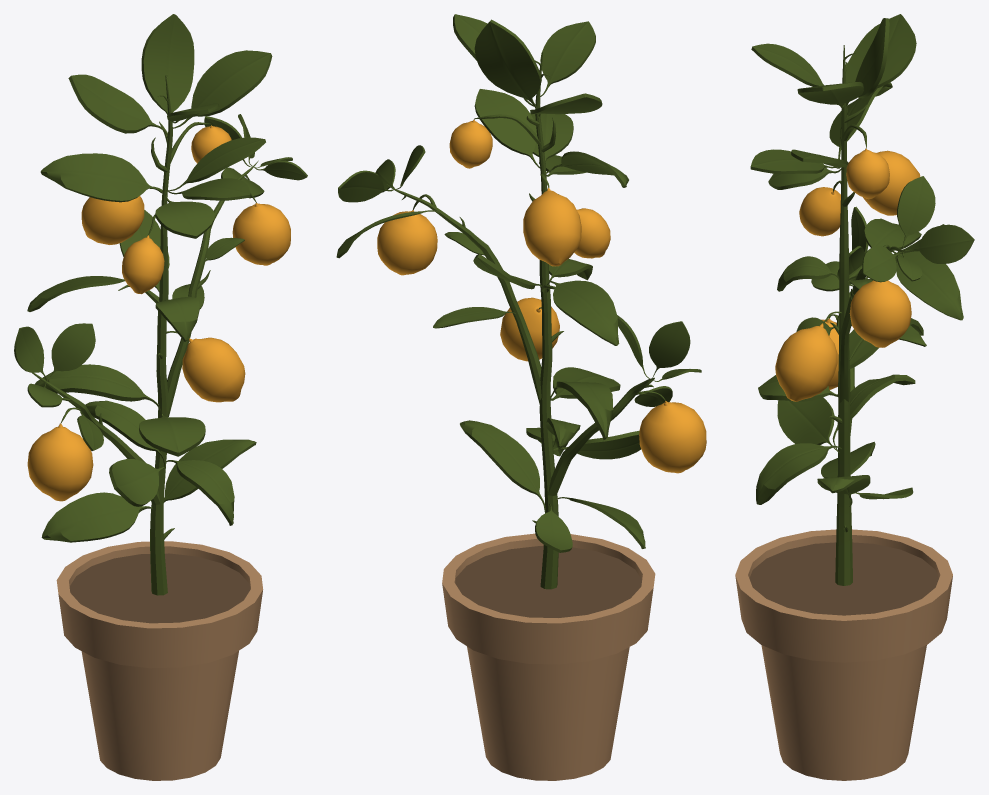
The model's file is limonero.glb.
3 renders of one model, left to right at view 1: azimuth 30°, elevation 25°; view 2: azimuth 150°, elevation 25°; view 3: azimuth 270°, elevation 25°, orthographic. The views are drawn at different scales.
Visible parts, largest first — view 1: Cylinder_3; view 2: Cylinder_3; view 3: Cylinder_3.
Boxes of the visible parts, x1,y1,x2,y2 form: Cylinder_3: (14,14,307,780); Cylinder_3: (336,14,706,780); Cylinder_3: (735,14,974,780).
Size of the model in its own units: 5.06 by 11.3 by 3.26.
